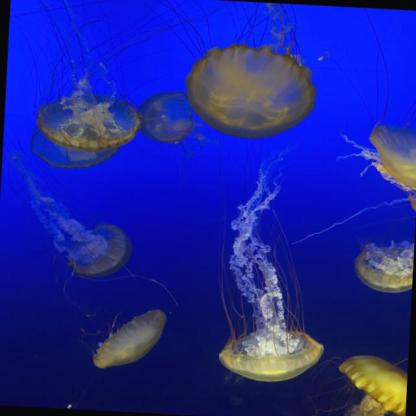jellyfish: (184, 41, 320, 142), (217, 326, 326, 386), (35, 92, 139, 152), (92, 306, 169, 373), (336, 354, 409, 416), (66, 222, 134, 284), (30, 126, 121, 172), (351, 236, 414, 296), (136, 89, 197, 144), (366, 125, 416, 192)
